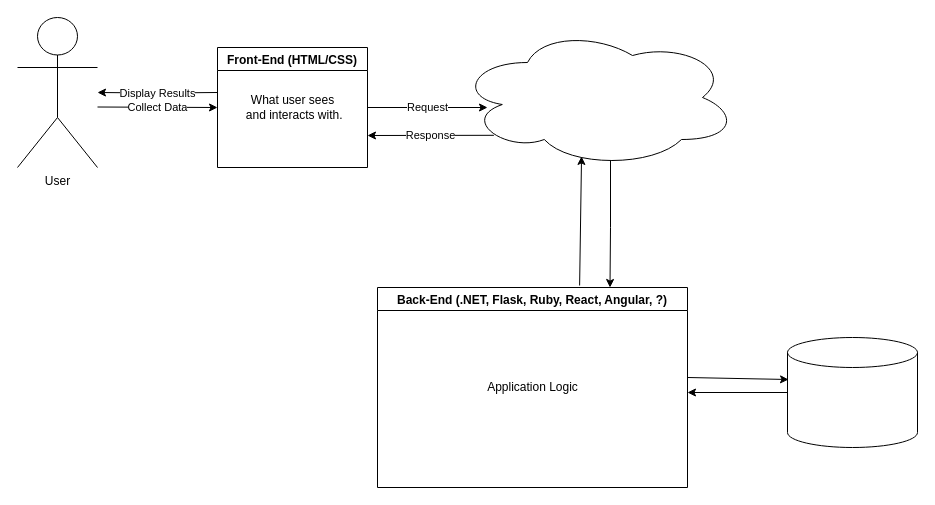
Some shapes in this 935 by 505 pixel diagram are drawn without their labels. The shapes that lost their labels are listed below. From the top down, each one's centre as x and y in pixels, then its label:
[597,97]: API (REST,?)
[852,392]: Database (MySQL,MariaDB, ?)
